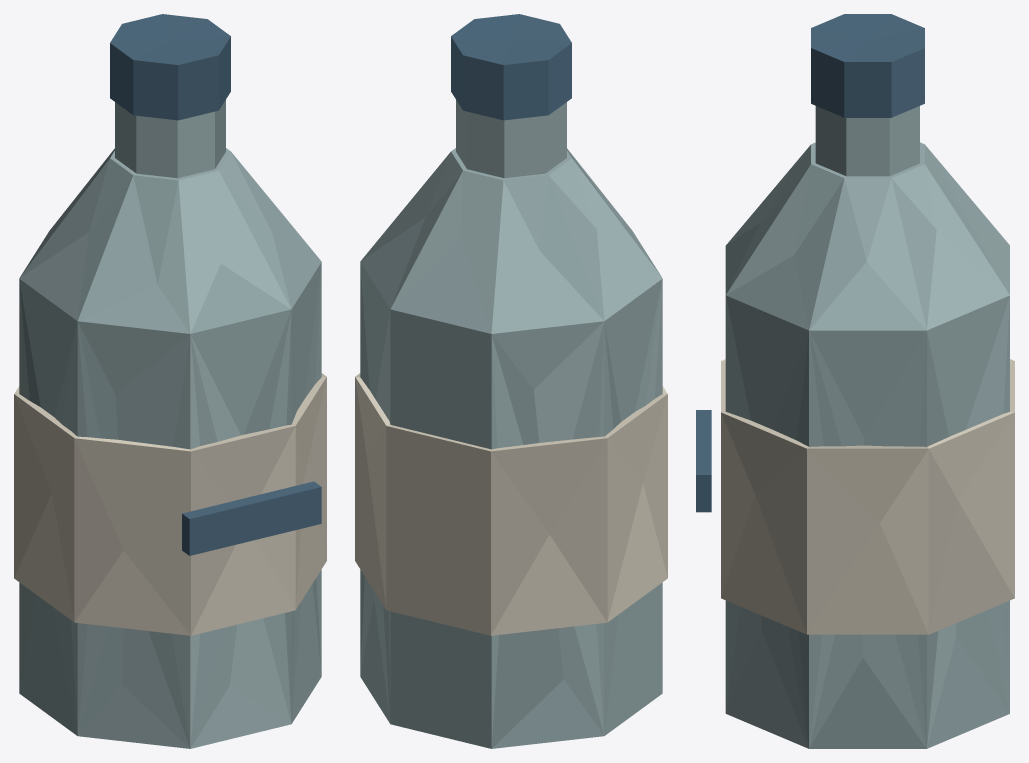
Rendered from antiseptic_spirt_idle.glb.
3 renders of one model, left to right at view 1: azimuth 30°, elevation 25°; view 2: azimuth 150°, elevation 25°; view 3: azimuth 270°, elevation 25°, orthographic.
Parts seen in each view (by area): view 1: antiseptic_spirt_idle; view 2: antiseptic_spirt_idle; view 3: antiseptic_spirt_idle.
Part boxes in pixels (box(x1,y1,x2,y2)): antiseptic_spirt_idle: box(14, 14, 326, 748); antiseptic_spirt_idle: box(355, 14, 667, 748); antiseptic_spirt_idle: box(696, 14, 1014, 748).
Bounding box in the file's own units: 0.0573 × 0.14 × 0.0621.
Materials: 1 (1 with a texture image).
